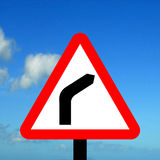Bend_to_right: (19, 32, 141, 140)
